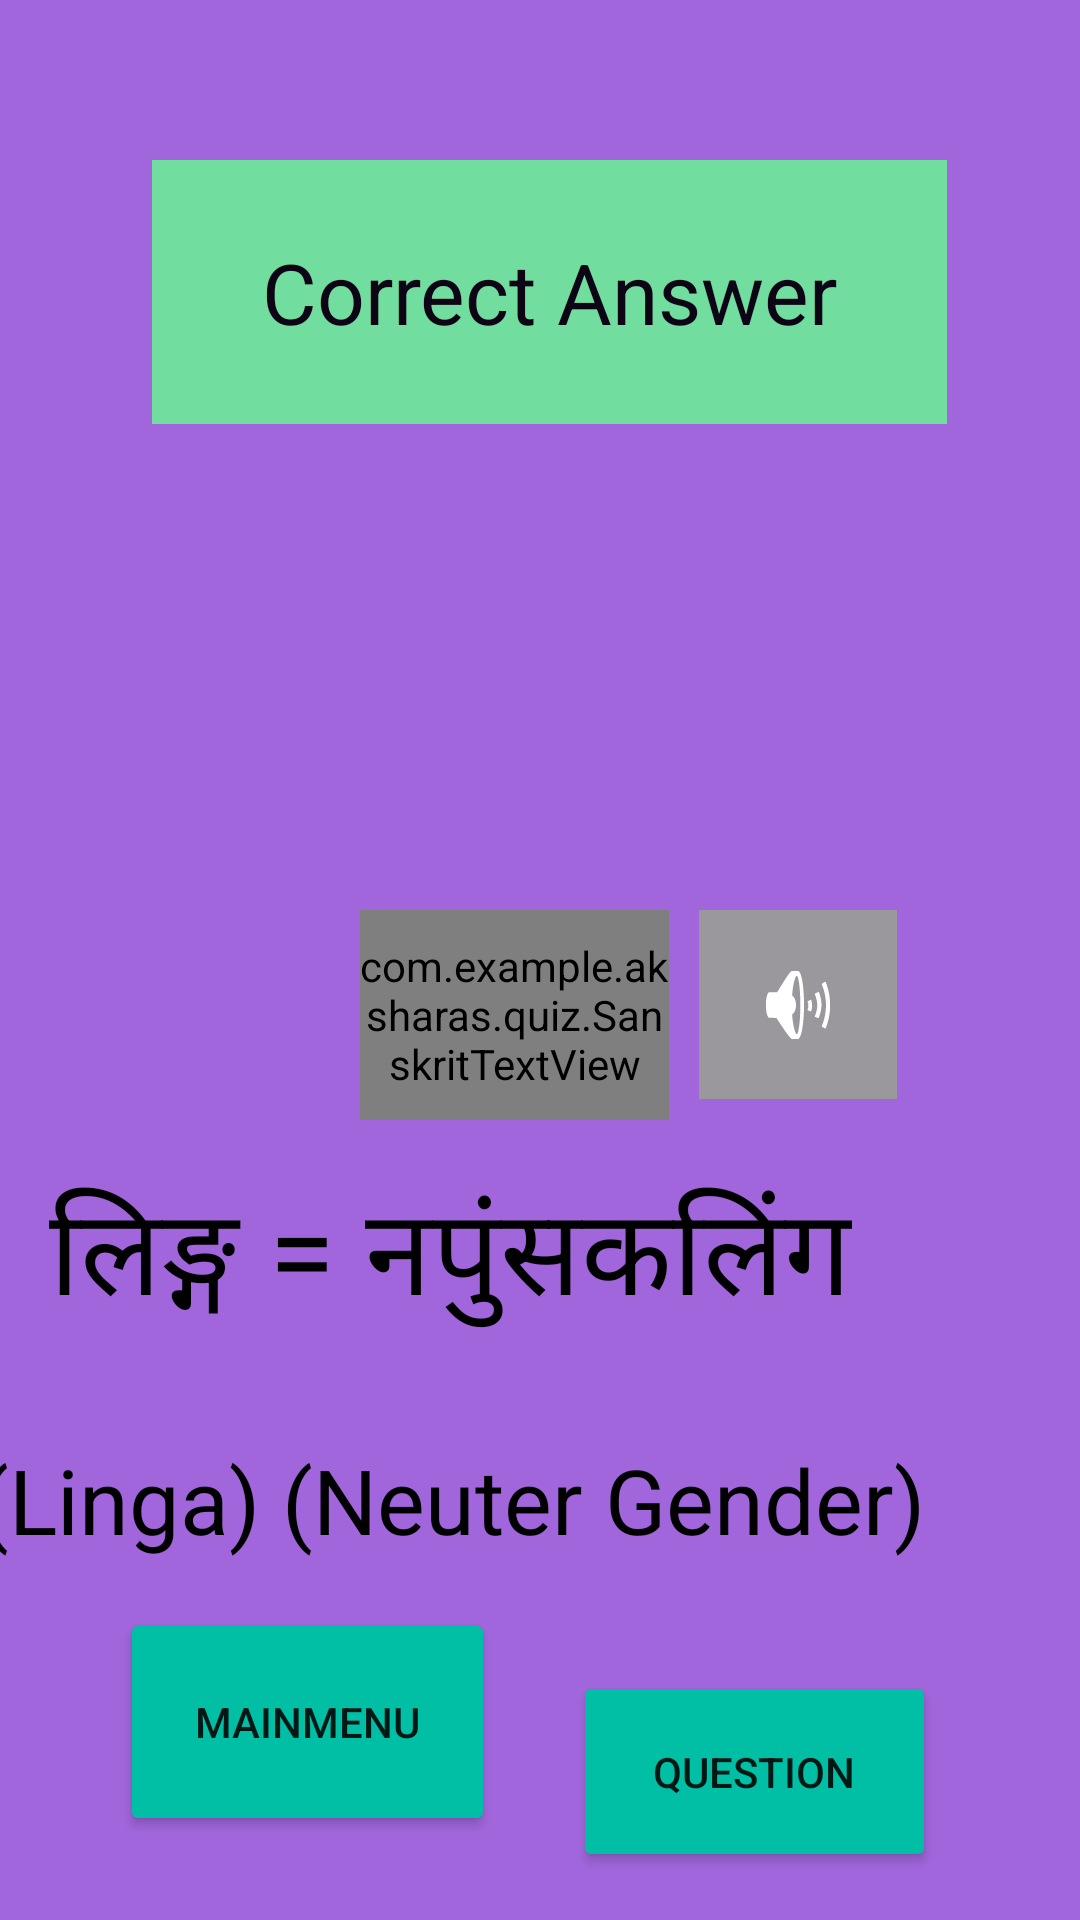

Locate icon controls on the screen. Image size 1080px×1920px, boxes as (x1, y1, x2, y2).
lock silent mode off: (699, 910, 897, 1099)
